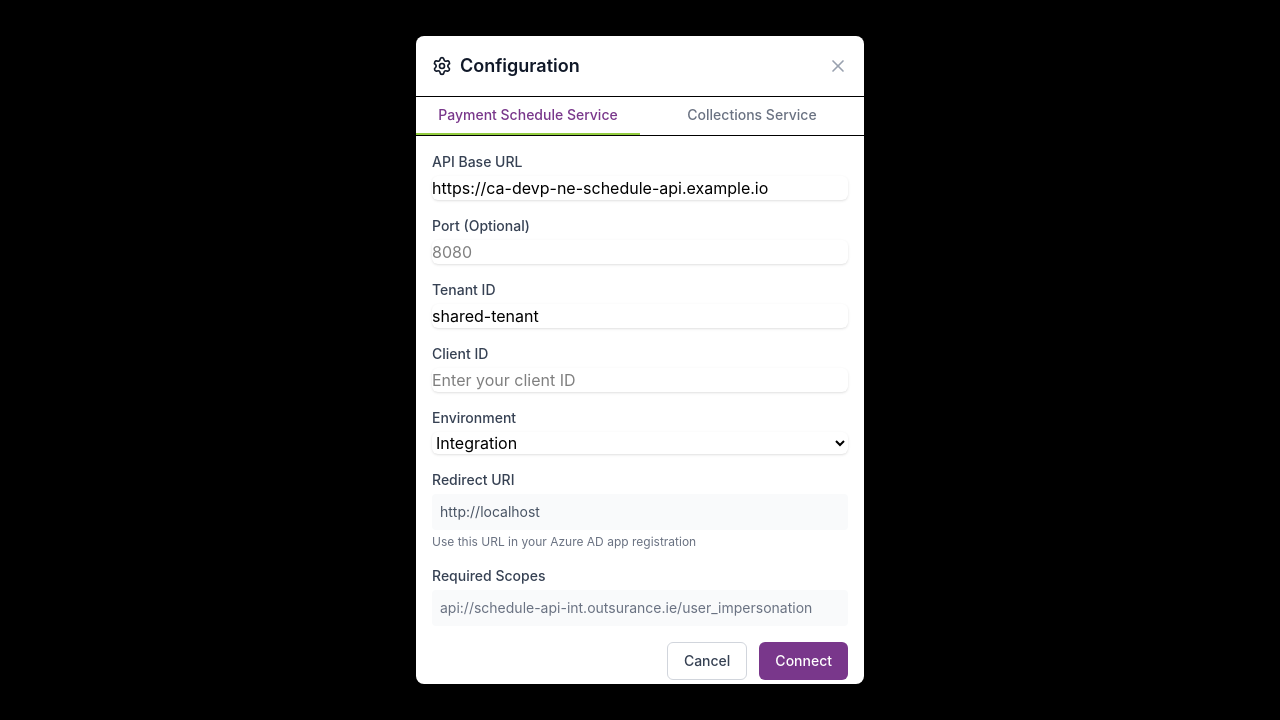
ConfigDialog — Collections Service tab › prefills the base URL from the Schedule API and the tenant from the Payment Schedule settings
The width and height of the screenshot is (1280, 720).
Click the tab "Collections Service". click: [752, 116]
box: [640,97,864,135]
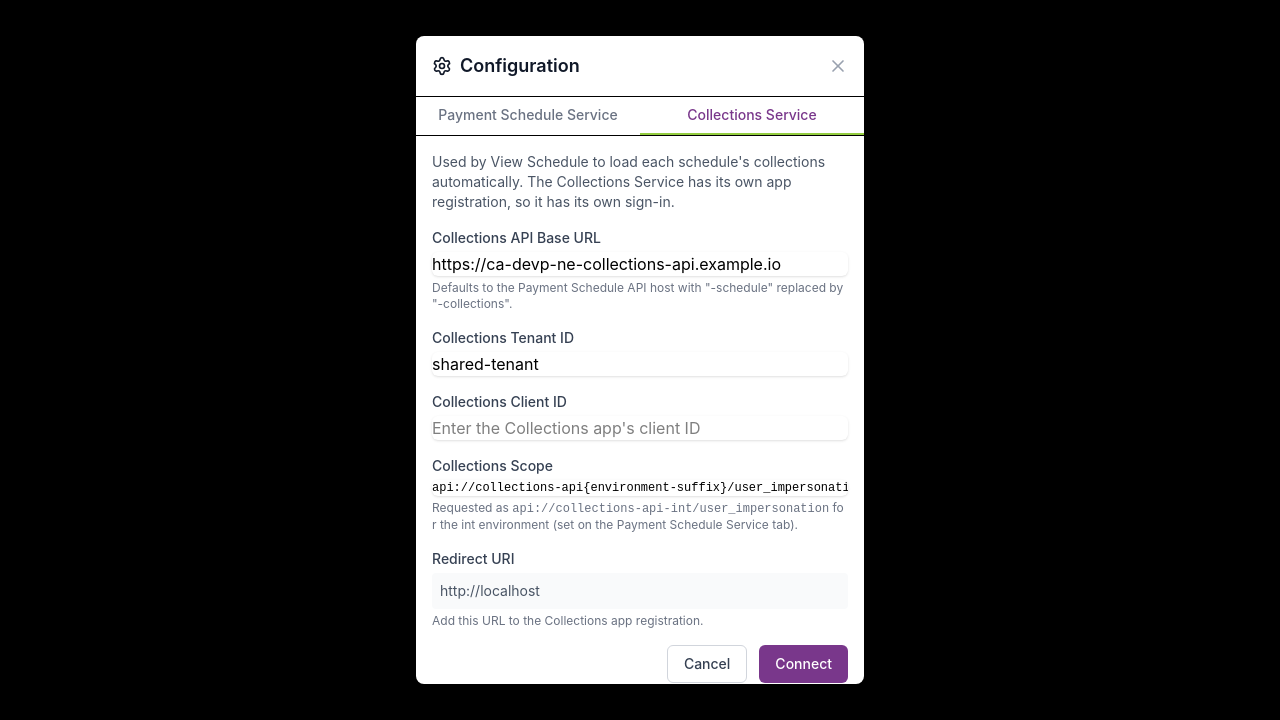
Result: the field labelled "Collections API Base URL" holds "https://ca-devp-ne-collections-api.example.io" at [432,252,848,276]
Result: the field labelled "Collections Tenant ID" holds "shared-tenant" at [432,352,848,376]
Result: the field labelled "Collections Scope" holds "api://collections-api{environment-suffix}/user_impersonation" at [432,480,848,496]
